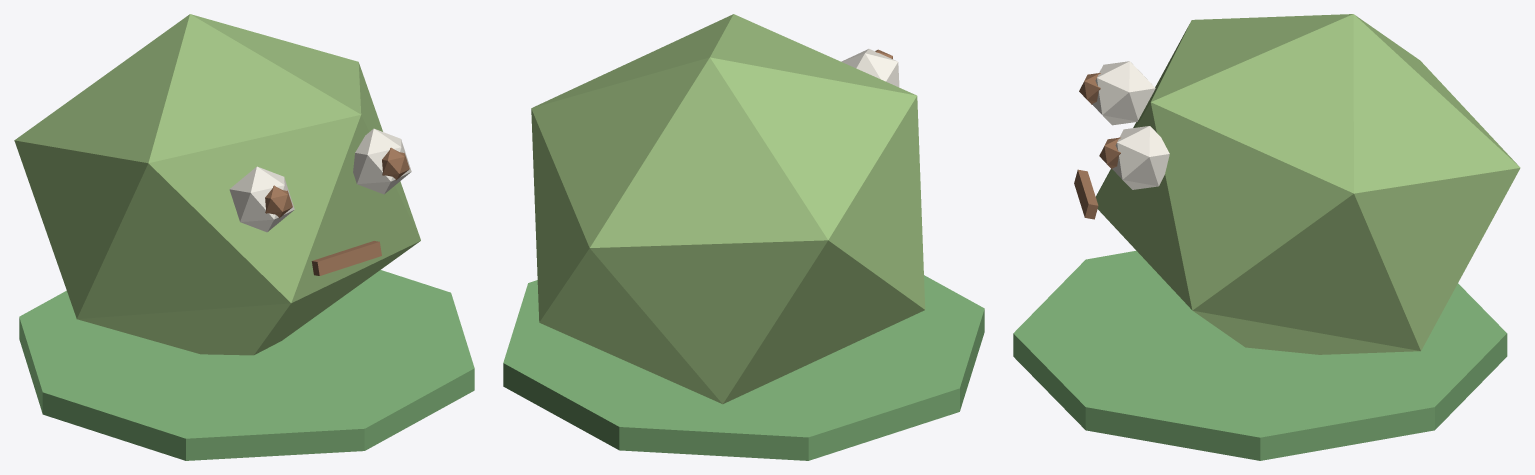
File: npcpose_slime_walk_07.glb
3 renders of one model, left to right at view 1: azimuth 30°, elevation 25°; view 2: azimuth 150°, elevation 25°; view 3: azimuth 270°, elevation 25°, orthographic. The views are drawn at different scales.
Visible parts, largest first — view 1: npcpose; view 2: npcpose; view 3: npcpose.
Part boxes in pixels (<box>): npcpose: <box>14,14,474,460</box>; npcpose: <box>503,14,984,460</box>; npcpose: <box>1013,14,1520,460</box>.
Bounding box in the file's own units: 0.96 × 0.7248 × 0.9862.
